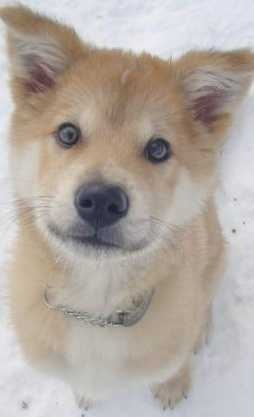Dog: (0, 7, 251, 406)
